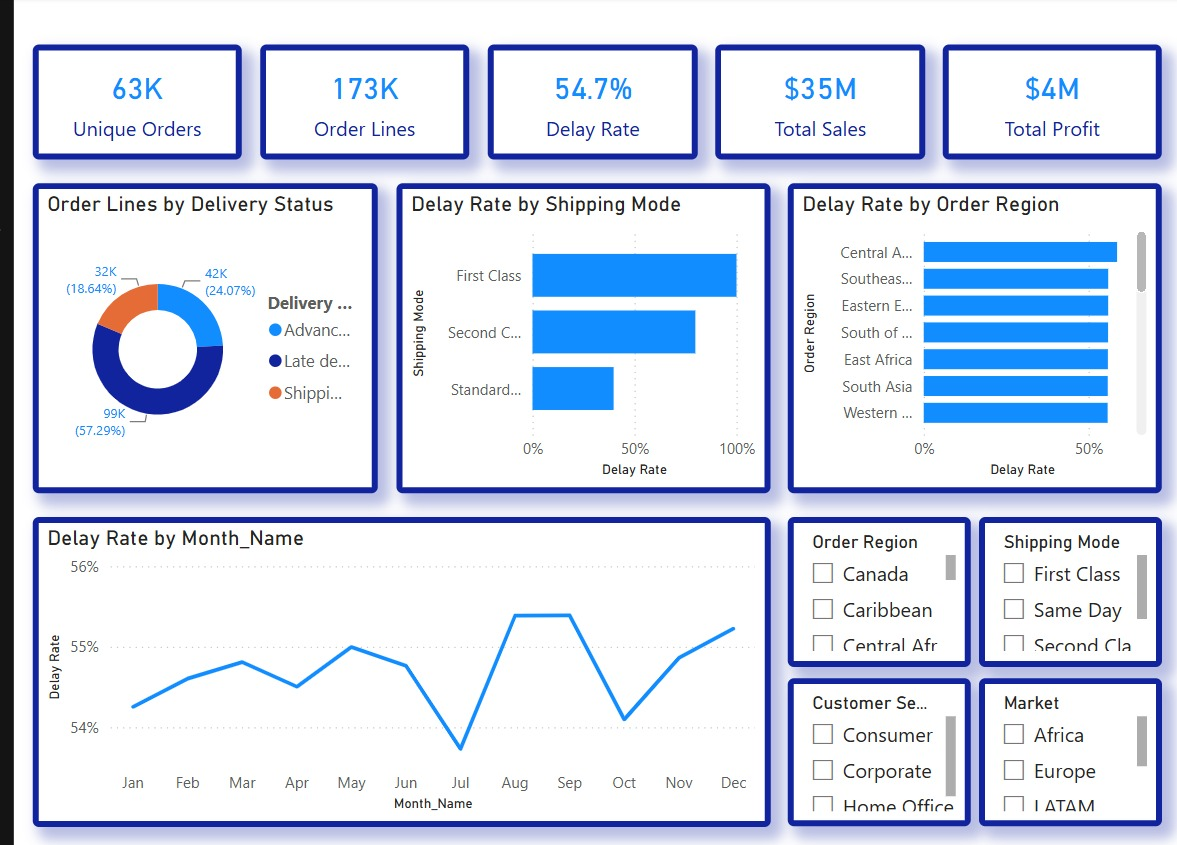

What the dashboard file says about the page in this screenshot:
{"tool":"powerbi","page":{"name":"Executive Overview","canvas":[1280,720],"ordinal":0},"visuals":[{"type":"card","fields":{"Values":["_Measures.Unique Orders"]},"box":[20,20,230,100],"z":0},{"type":"card","fields":{"Values":["_Measures.Order Lines"]},"box":[270,20,230,100],"z":1000},{"type":"card","fields":{"Values":["_Measures.Delay Rate"]},"box":[520,20,230,100],"z":2000},{"type":"card","fields":{"Values":["_Measures.Total Sales"]},"box":[770,20,230,100],"z":3000},{"type":"card","fields":{"Values":["_Measures.Total Profit"]},"box":[1020,20,240,100],"z":4000},{"type":"donutChart","fields":{"Category":["Fact_OrderLines.Delivery Status"],"Y":["_Measures.Order Lines"]},"box":[20,140,380,270],"z":5000},{"type":"barChart","fields":{"Category":["Fact_OrderLines.Shipping Mode"],"Y":["_Measures.Delay Rate"]},"box":[420,140,410,270],"z":6000},{"type":"barChart","fields":{"Category":["Fact_OrderLines.Order Region"],"Y":["_Measures.Delay Rate"]},"box":[850,140,410,270],"z":7000},{"type":"lineChart","fields":{"Category":["Dim_Calendar.Month_Name"],"Y":["_Measures.Delay Rate"]},"box":[20,430,810,270],"z":8000},{"type":"slicer","fields":{"Values":["Fact_OrderLines.Order Region"]},"box":[850,430,200,130],"z":9000},{"type":"slicer","fields":{"Values":["Fact_OrderLines.Shipping Mode"]},"box":[1060,430,200,130],"z":10000},{"type":"slicer","fields":{"Values":["Fact_OrderLines.Customer Segment"]},"box":[850,570,200,130],"z":11000},{"type":"slicer","fields":{"Values":["Fact_OrderLines.Market"]},"box":[1060,570,200,130],"z":12000}]}

Visuals, with their boxes on the page's 1280x720 design canvas (x1, y1, x2, y2). These are canvas units, not pixel positions in the 1177x845 screenshot, which may show the page scaled, cropped or inside an application window:
card - _Measures.Unique Orders: <box>20,20,250,120</box>
card - _Measures.Order Lines: <box>270,20,500,120</box>
card - _Measures.Delay Rate: <box>520,20,750,120</box>
card - _Measures.Total Sales: <box>770,20,1000,120</box>
card - _Measures.Total Profit: <box>1020,20,1260,120</box>
donutChart - Fact_OrderLines.Delivery Status x _Measures.Order Lines: <box>20,140,400,410</box>
barChart - Fact_OrderLines.Shipping Mode x _Measures.Delay Rate: <box>420,140,830,410</box>
barChart - Fact_OrderLines.Order Region x _Measures.Delay Rate: <box>850,140,1260,410</box>
lineChart - Dim_Calendar.Month_Name x _Measures.Delay Rate: <box>20,430,830,700</box>
slicer - Fact_OrderLines.Order Region: <box>850,430,1050,560</box>
slicer - Fact_OrderLines.Shipping Mode: <box>1060,430,1260,560</box>
slicer - Fact_OrderLines.Customer Segment: <box>850,570,1050,700</box>
slicer - Fact_OrderLines.Market: <box>1060,570,1260,700</box>
